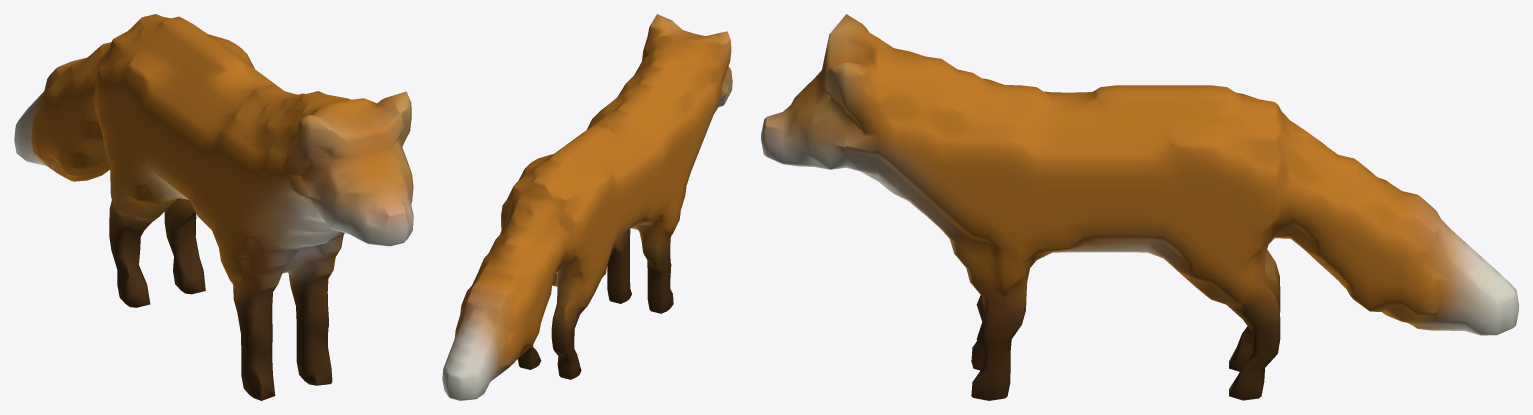
The model's file is Fox_1024B_voxs.glb.
3 renders of one model, left to right at view 1: azimuth 30°, elevation 25°; view 2: azimuth 150°, elevation 25°; view 3: azimuth 270°, elevation 25°, orthographic. The views are drawn at different scales.
Size of the model in its own units: 0.3439 by 1 by 1.99.
